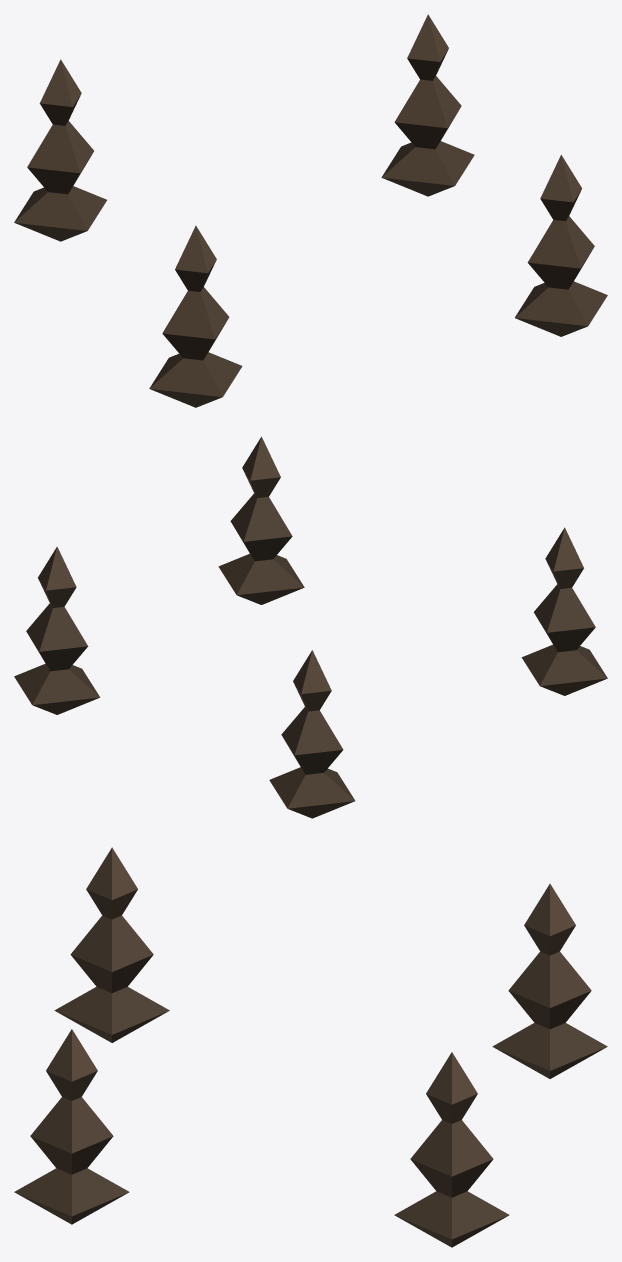
Rendered from Knees_A.glb.
The picture shows the model from 3 angles, top to bottom: view 1: azimuth 30°, elevation 25°; view 2: azimuth 150°, elevation 25°; view 3: azimuth 270°, elevation 25°; orthographic projection. The views are drawn at different scales.
Visible parts, largest first — view 1: Knees; view 2: Knees; view 3: Knees.
Part boxes in pixels (box(x1,y1,x2,y2)): Knees: box(14, 14, 607, 407); Knees: box(14, 436, 607, 818); Knees: box(14, 847, 607, 1247).
Size of the model in its own units: 9.32 by 3.36 by 9.23.
